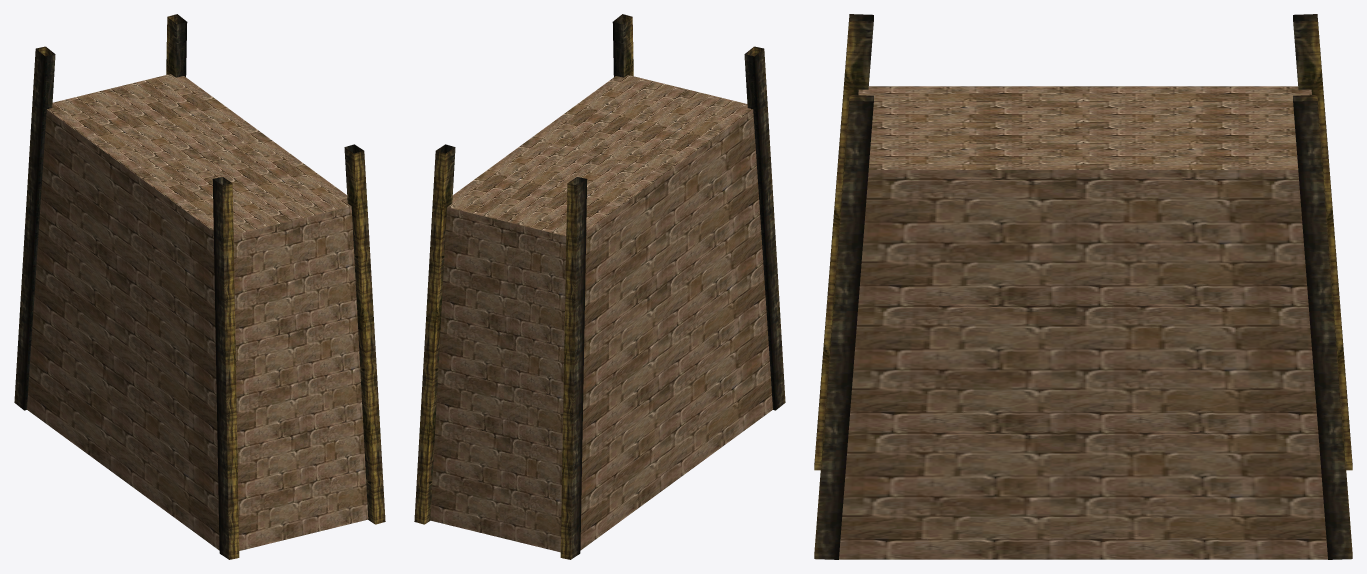
File: CB_NEWPLAYSURFACE_TOWERWALL02.fbx
3 renders of one model, left to right at view 1: azimuth 30°, elevation 25°; view 2: azimuth 150°, elevation 25°; view 3: azimuth 270°, elevation 25°, orthographic. The views are drawn at different scales.
Visible parts, largest first — view 1: CB_NEWPLAYSURFACE_TOWERWALL02; view 2: CB_NEWPLAYSURFACE_TOWERWALL02; view 3: CB_NEWPLAYSURFACE_TOWERWALL02.
Part boxes in pixels (x1,y1,x2,y2): CB_NEWPLAYSURFACE_TOWERWALL02: [14, 14, 385, 559]; CB_NEWPLAYSURFACE_TOWERWALL02: [414, 14, 785, 559]; CB_NEWPLAYSURFACE_TOWERWALL02: [814, 14, 1352, 559].
Bounding box in the file's own units: 27672 × 61538 × 65922.
Materials: 2 (2 with a texture image).
